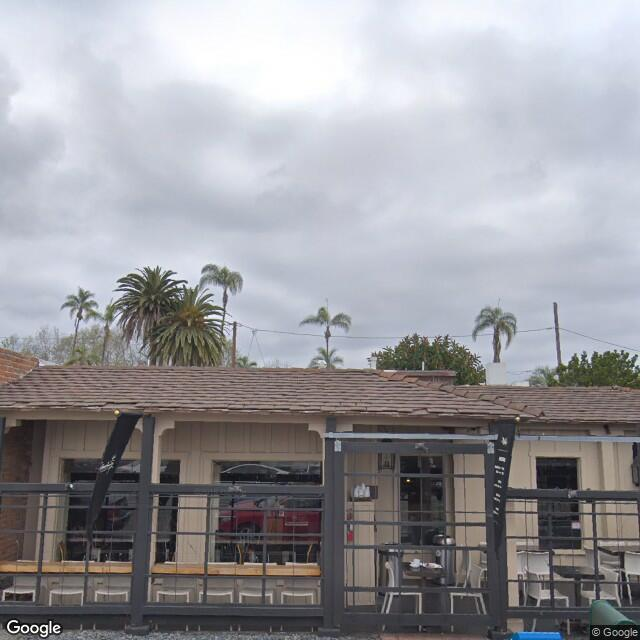window: (215, 459, 313, 564), (398, 451, 444, 548), (539, 455, 578, 549)
